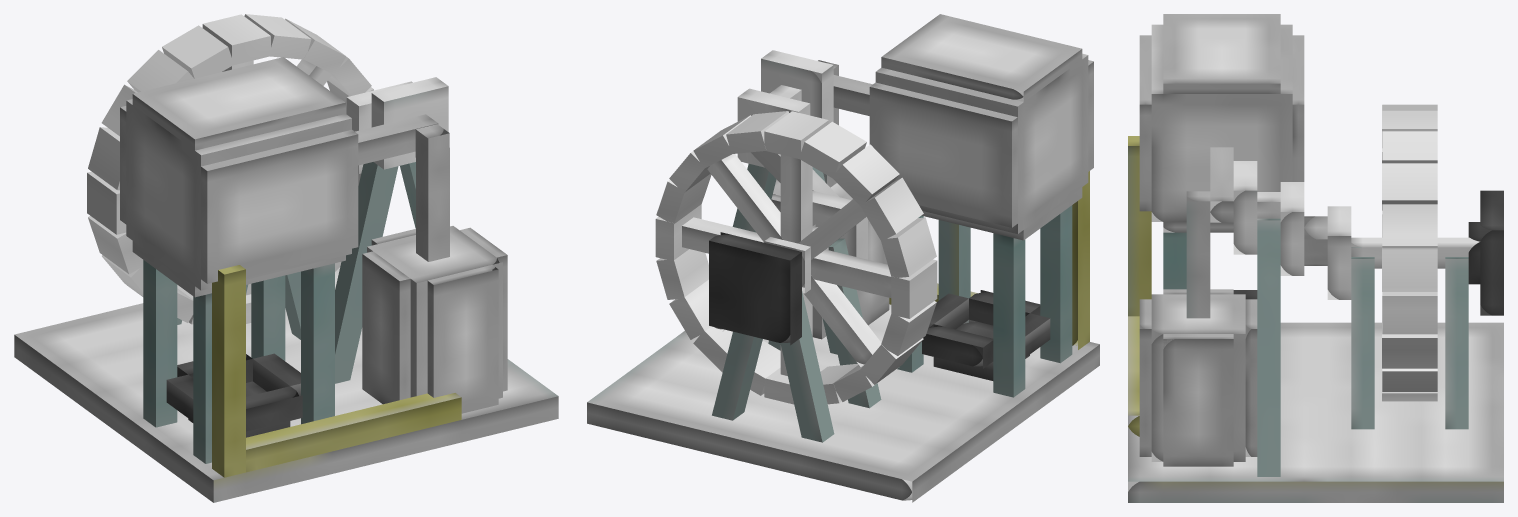
Rendered from stirling_generator.obj.
The picture shows the model from 3 angles, left to right: view 1: azimuth 30°, elevation 25°; view 2: azimuth 150°, elevation 25°; view 3: azimuth 270°, elevation 25°; orthographic projection. The views are drawn at different scales.
Parts seen in each view (by area): view 1: base, flywheel, piston_arm2, piston_crank1, piston_arm1, piston_crank2; view 2: base, flywheel, piston_crank1, piston_crank2, piston_arm1, flywheel_arm; view 3: base, flywheel, piston_arm2, piston_crank1, piston_crank2, piston_arm1, flywheel_arm.
Part boxes in pixels (x1,y1,x2,y2): base: (14, 57, 558, 502); flywheel: (87, 14, 373, 324); piston_arm2: (415, 124, 449, 261); piston_crank1: (371, 77, 448, 169); piston_arm1: (355, 114, 438, 165); piston_crank2: (346, 81, 412, 173); base: (587, 14, 1099, 502); flywheel: (655, 111, 937, 404); piston_crank1: (761, 50, 833, 123); piston_crank2: (737, 88, 810, 167); piston_arm1: (833, 75, 872, 115); flywheel_arm: (751, 151, 839, 197); base: (1128, 14, 1503, 502); flywheel: (1327, 104, 1503, 401); piston_arm2: (1186, 191, 1210, 318); piston_crank1: (1233, 161, 1280, 254); piston_crank2: (1280, 182, 1304, 275); piston_arm1: (1210, 147, 1233, 222); flywheel_arm: (1304, 216, 1327, 265).
Size of the model in its own units: 1 by 0.9745 by 1.
